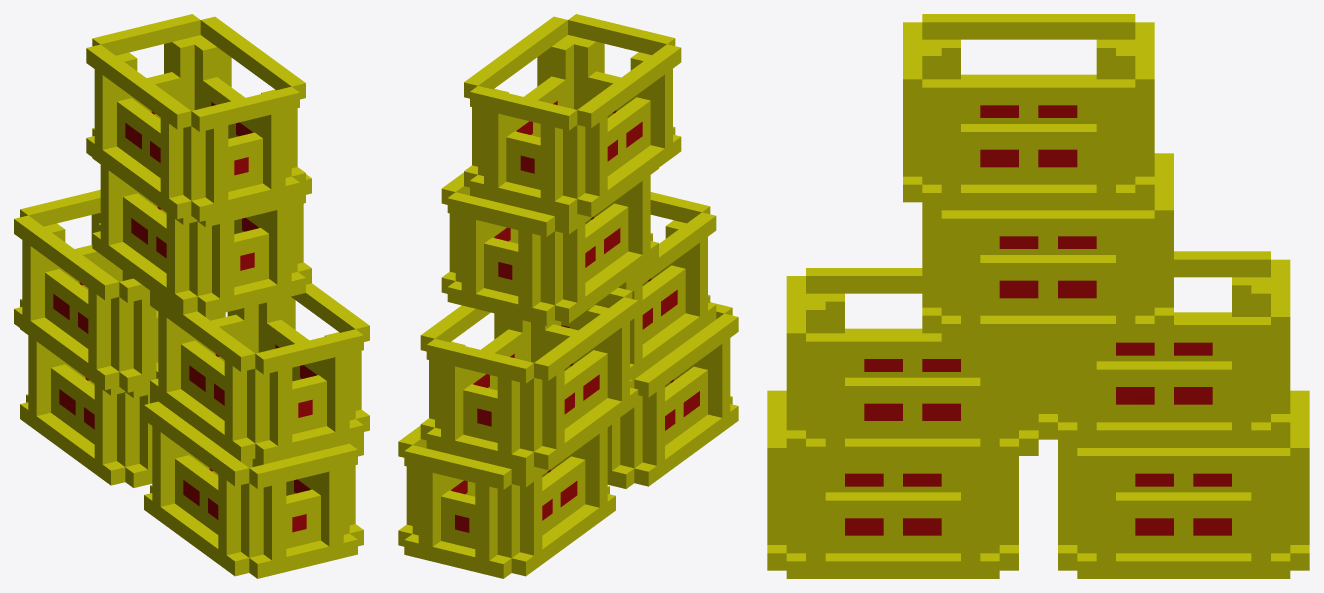
Rendered from crate.glb.
The picture shows the model from 3 angles, left to right: view 1: azimuth 30°, elevation 25°; view 2: azimuth 150°, elevation 25°; view 3: azimuth 270°, elevation 25°; orthographic projection. The views are drawn at different scales.
Parts seen in each view (by area): view 1: ObjObject; view 2: ObjObject; view 3: ObjObject.
Boxes of the visible parts, x1=… form: ObjObject: x1=14, y1=14, x2=369, y2=578; ObjObject: x1=398, y1=14, x2=738, y2=578; ObjObject: x1=767, y1=14, x2=1309, y2=578.
Size of the model in its own units: 1.1 by 2.8 by 2.8.
1 material, 1 textured.
